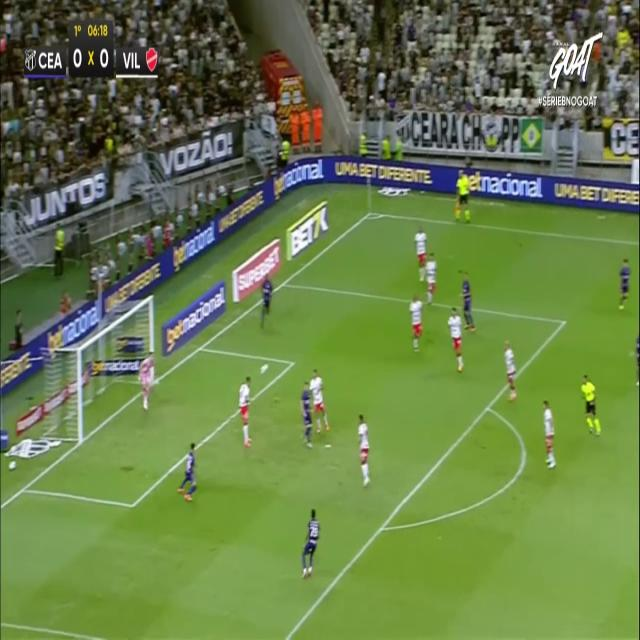ball: (259, 360, 274, 384)
goalkeeper: (138, 348, 155, 410)
player: (614, 246, 637, 315), (459, 268, 480, 339), (300, 507, 320, 578), (309, 368, 329, 433), (259, 267, 276, 340), (177, 441, 197, 500), (447, 306, 463, 372), (357, 413, 371, 487), (238, 375, 252, 447), (542, 399, 556, 469), (299, 381, 313, 447), (503, 339, 517, 401), (409, 293, 423, 351), (414, 225, 427, 282)
referee: (580, 373, 601, 436), (456, 167, 475, 233)
